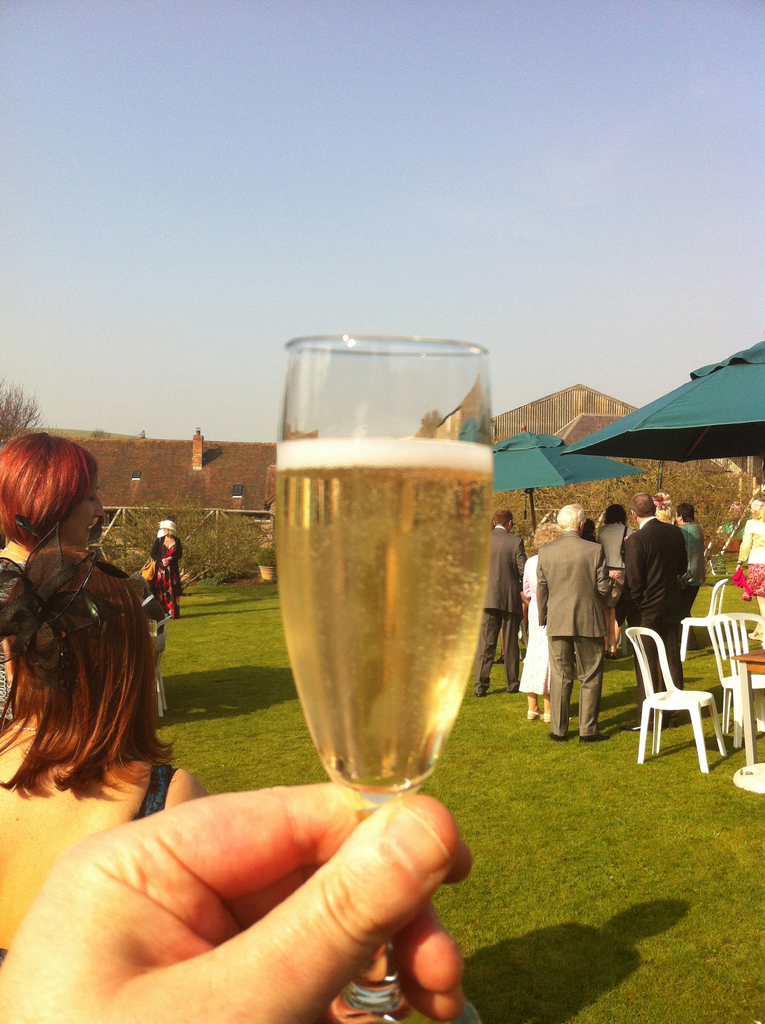Beer: (255, 310, 546, 1022)
